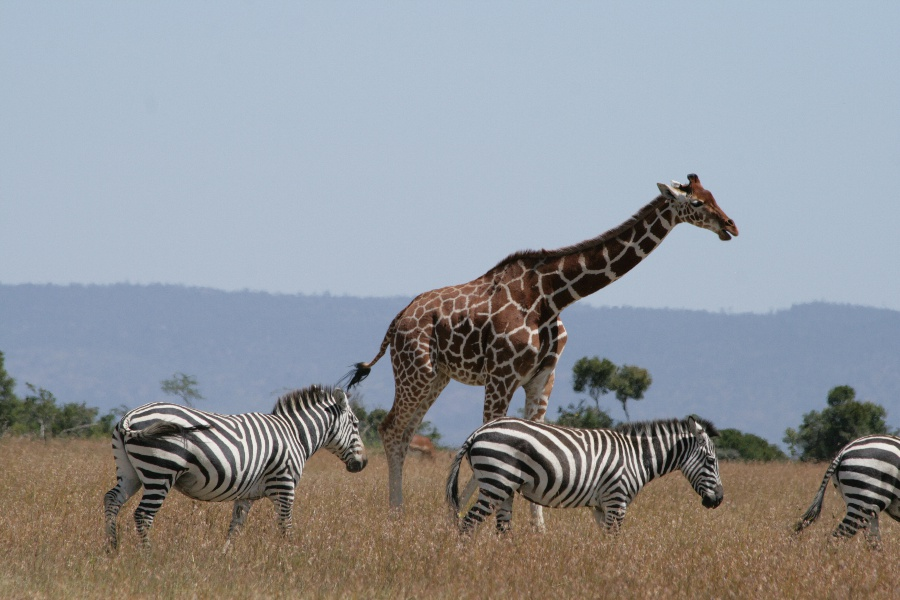giraffe: (374, 158, 740, 412)
